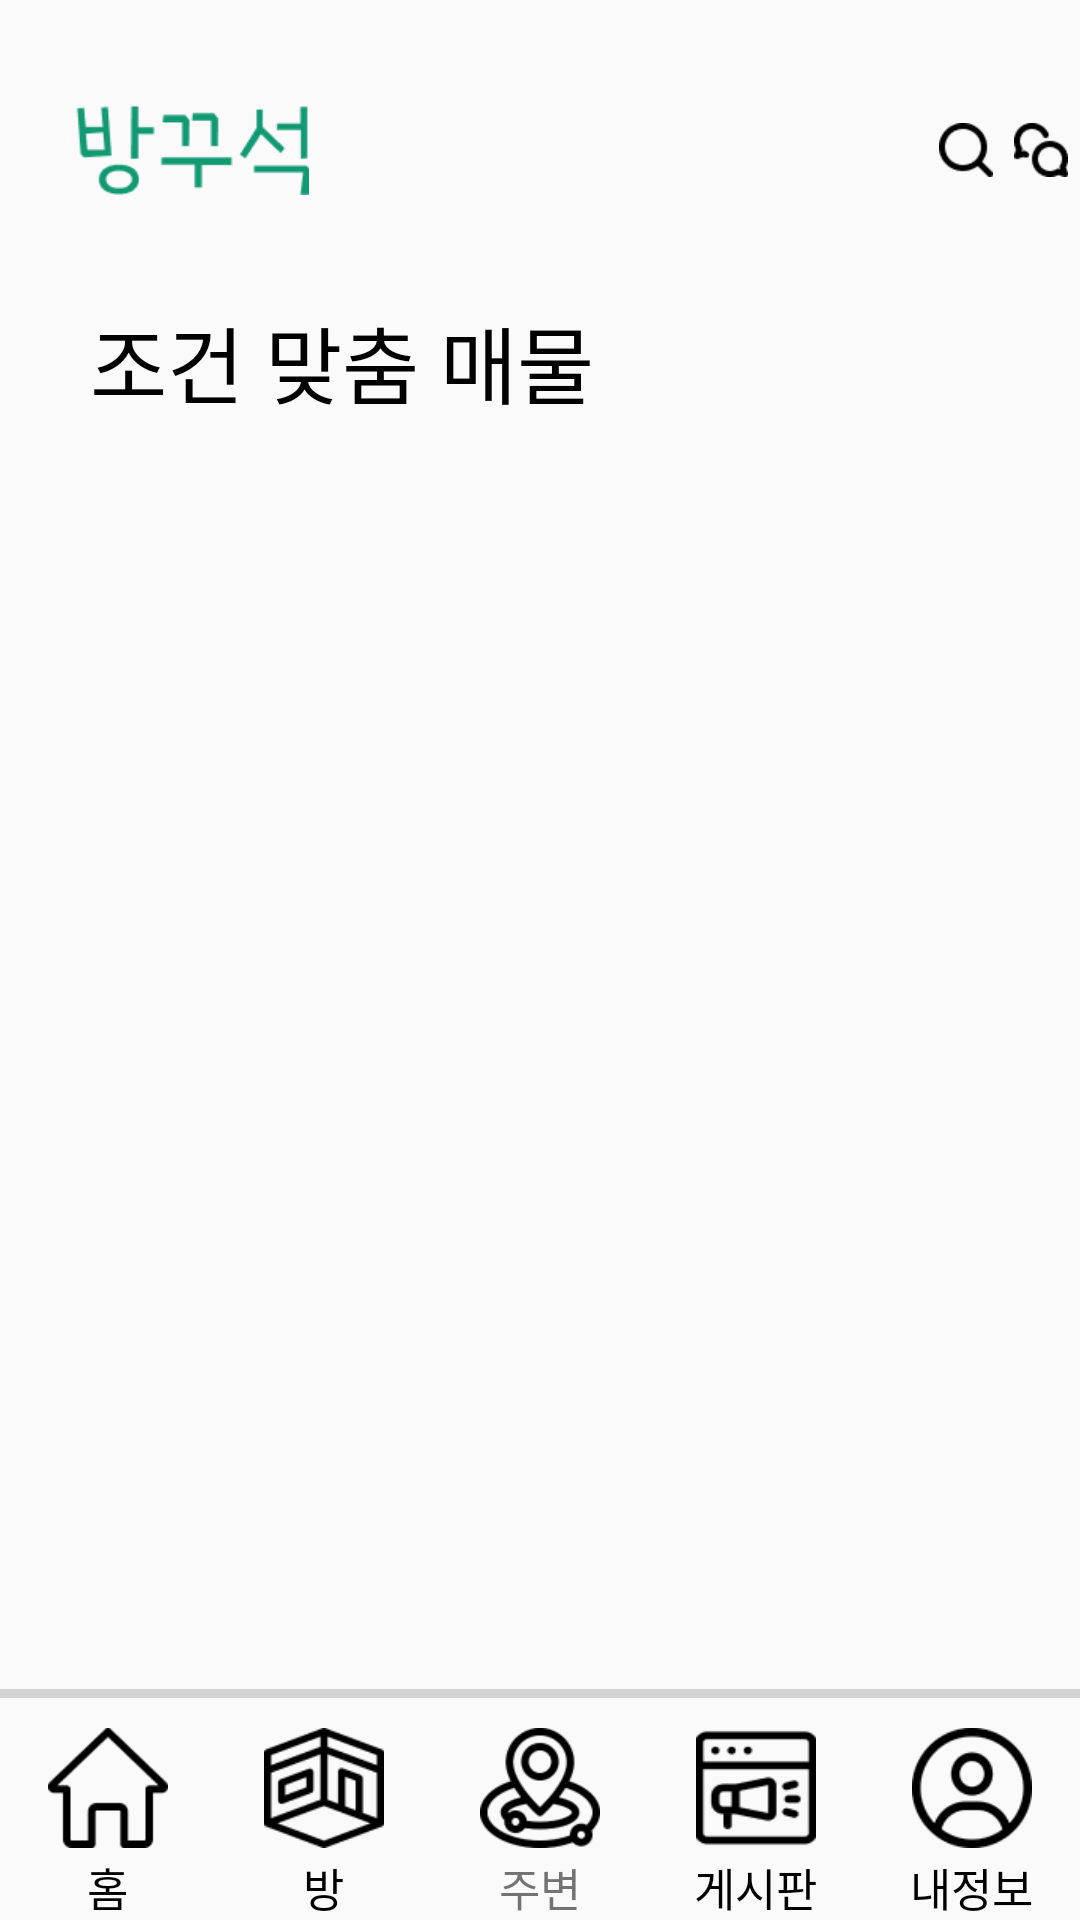

Icons on this 1080*1920 Android screen, each with the point to tap as (x=x, y=y):
chat: (x=1041, y=150)
search: (x=966, y=150)
